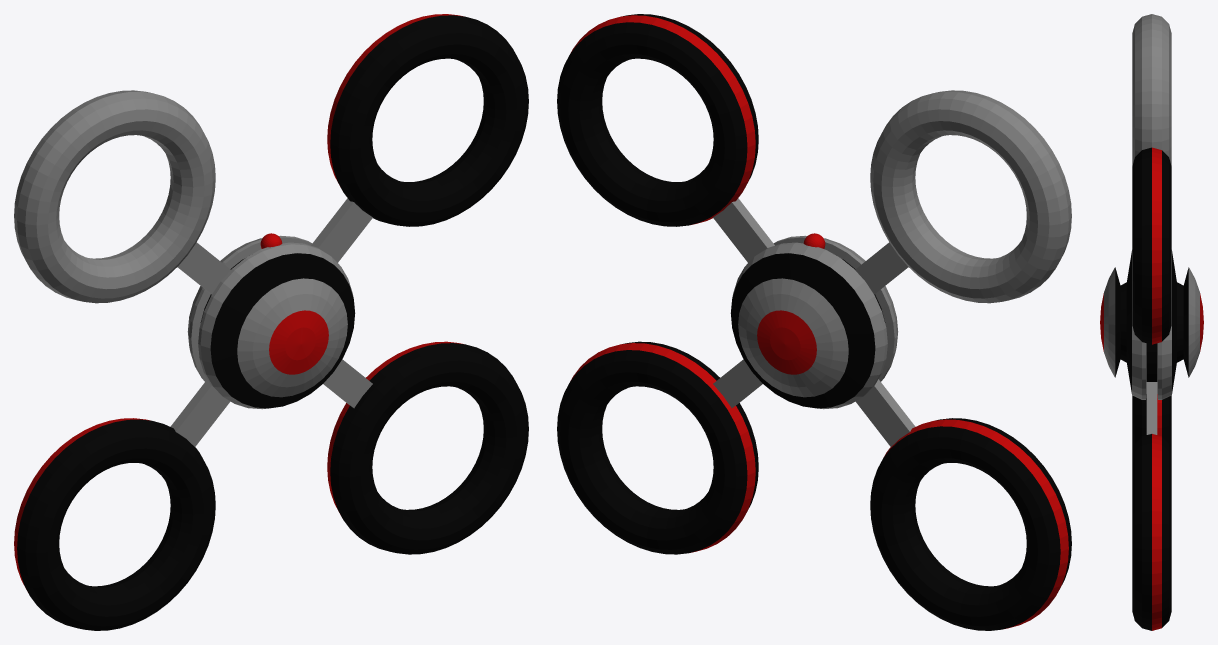
The model's file is Minion G.fbx.
The picture shows the model from 3 angles, left to right: view 1: azimuth 30°, elevation 25°; view 2: azimuth 150°, elevation 25°; view 3: azimuth 270°, elevation 25°; orthographic projection. The views are drawn at different scales.
Parts seen in each view (by area): view 1: Torus; view 2: Torus; view 3: Torus.
Boxes of the visible parts, x1,y1,x2,y2 form: Torus: (14, 14, 528, 630); Torus: (557, 14, 1071, 630); Torus: (1100, 14, 1203, 630).
Size of the model in its own units: 650 by 650 by 132.
